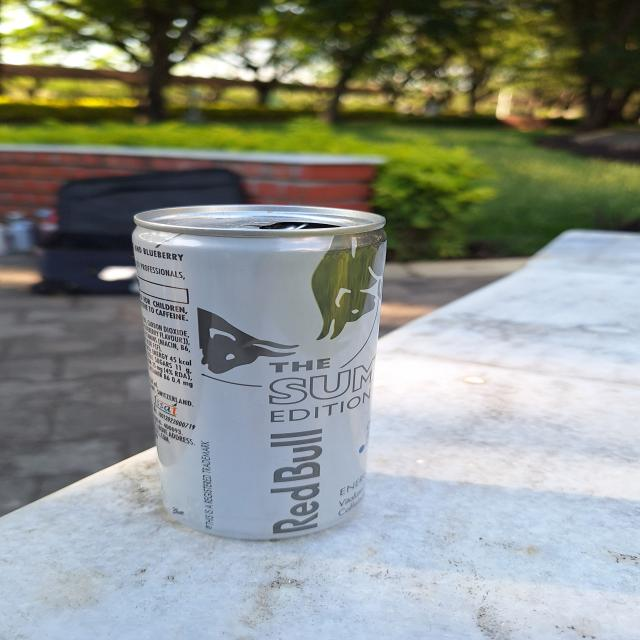Redbull Summer Edition: (114, 199, 377, 541)
